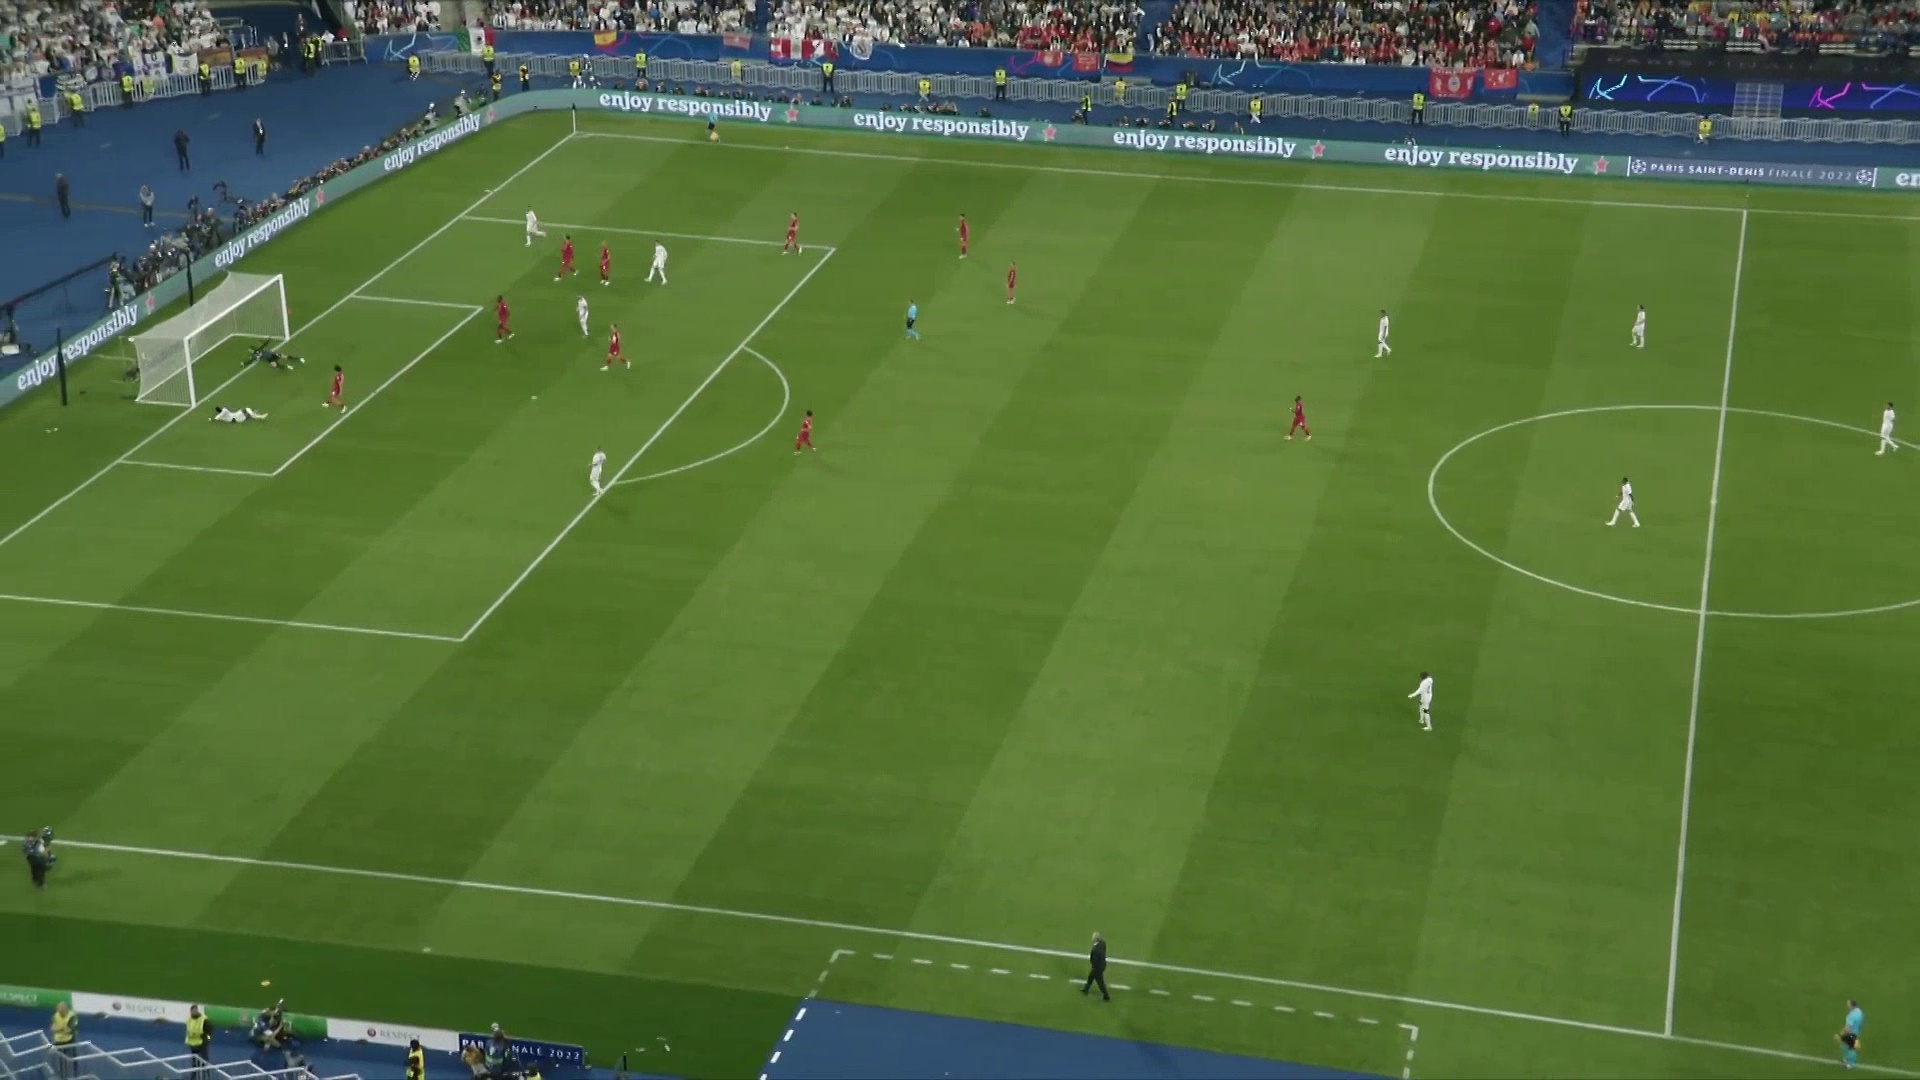player 1: (646, 233, 677, 291)
player 10: (1601, 468, 1653, 541)
player 11: (1396, 657, 1446, 735)
player 12: (243, 340, 312, 373)
player 13: (554, 228, 588, 287)
player 14: (321, 362, 358, 420)
player 15: (591, 231, 627, 291)
player 16: (489, 285, 522, 343)
player 17: (605, 317, 638, 384)
player 18: (952, 213, 981, 267)
player 19: (995, 254, 1028, 308)
player 2: (519, 207, 552, 250)
player 20: (776, 200, 806, 261)
player 21: (1282, 386, 1325, 452)
player 22: (791, 407, 830, 470)
player 3: (203, 399, 284, 424)
player 4: (573, 297, 593, 341)
player 5: (577, 442, 618, 498)
player 7: (1358, 293, 1401, 368)
player 8: (1620, 291, 1668, 355)
player 9: (1862, 384, 1903, 468)
reffree: (896, 295, 933, 351)
